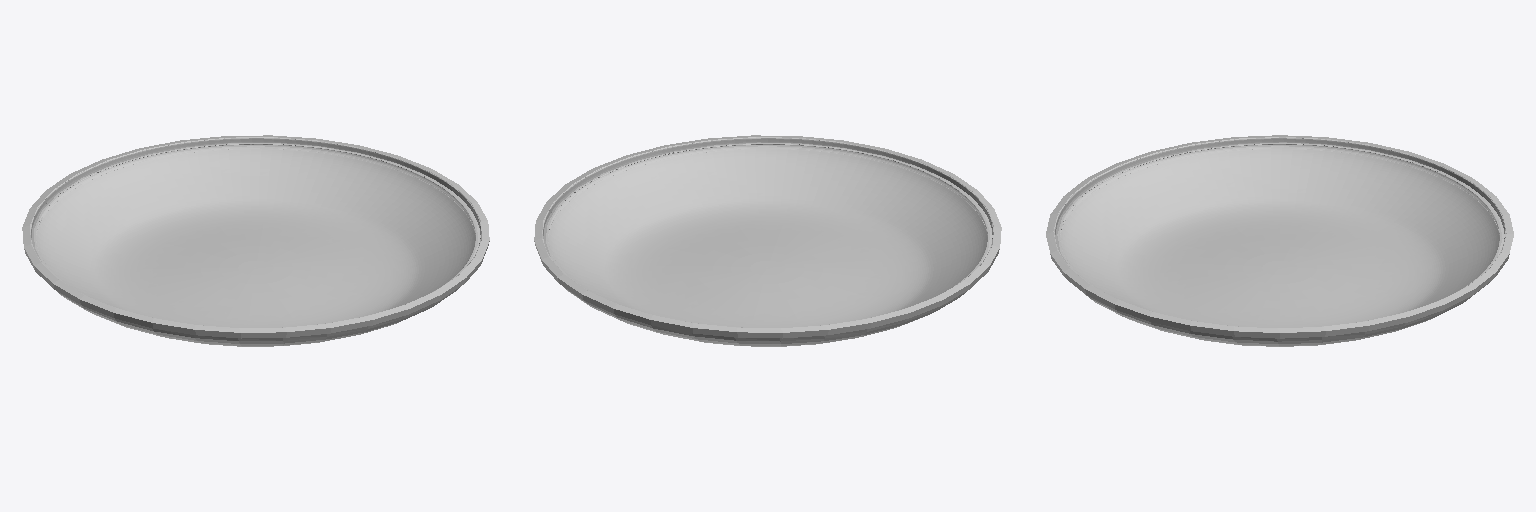
3 views of the same model, side by side, from view 1: azimuth 30°, elevation 25°; view 2: azimuth 150°, elevation 25°; view 3: azimuth 270°, elevation 25° (orthographic).
Parts seen in each view (by area): view 1: BowlJ2; view 2: BowlJ2; view 3: BowlJ2.
Boxes of the visible parts, x1,y1,x2,y2 form: BowlJ2: [22, 135, 489, 346]; BowlJ2: [534, 135, 1001, 346]; BowlJ2: [1046, 135, 1513, 346].
Bounding box in the file's own units: 5.31 × 0.5839 × 5.31.